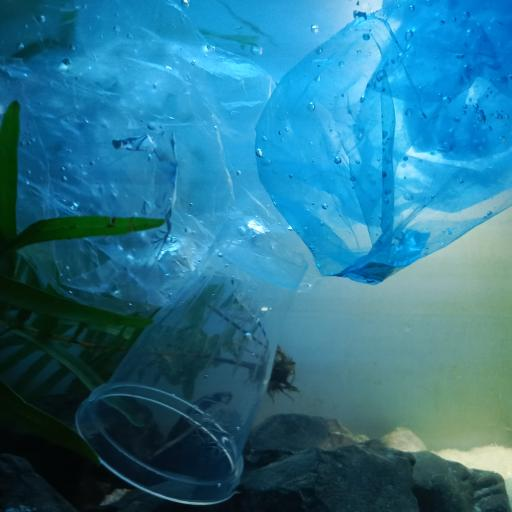plastic_bag: (0, 0, 323, 305), (251, 0, 512, 288)
plastic_cup: (80, 232, 304, 505)
